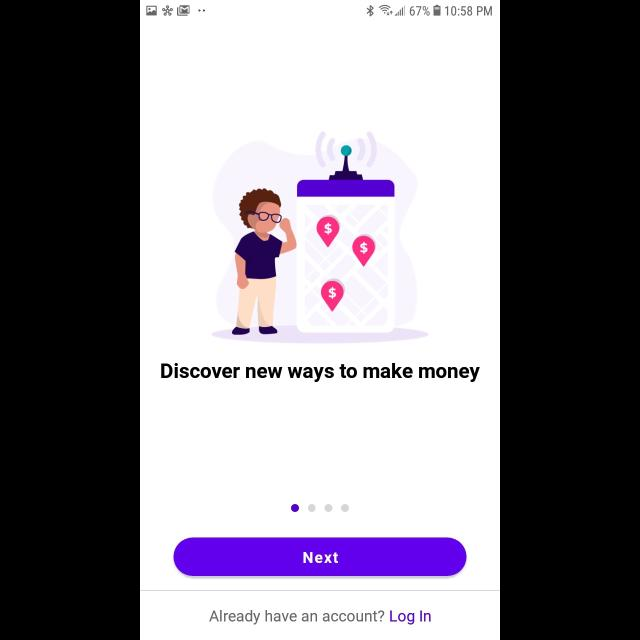image: (211, 132, 429, 344)
pageindicator: (291, 503, 349, 512)
text: (162, 362, 480, 382), (209, 610, 431, 624)
textbutton: (174, 538, 466, 576)
uppertaskbar: (140, 1, 500, 18)
